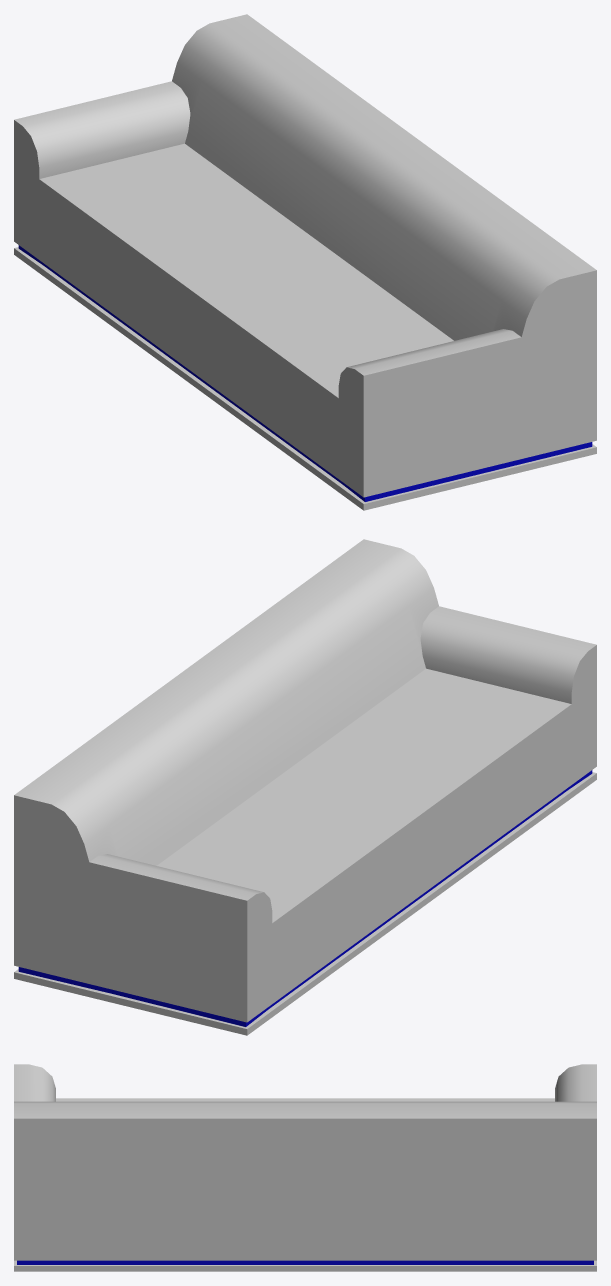
The model's file is Sofa.fbx.
The picture shows the model from 3 angles, top to bottom: view 1: azimuth 30°, elevation 25°; view 2: azimuth 150°, elevation 25°; view 3: azimuth 270°, elevation 25°; orthographic projection. The views are drawn at different scales.
Visible parts, largest first — view 1: Sofa; view 2: Sofa; view 3: Sofa.
Boxes of the visible parts, box(x1,y1,x2,y2) form: Sofa: box(14, 14, 596, 510); Sofa: box(14, 539, 596, 1035); Sofa: box(14, 1064, 596, 1271).
Bounding box in the file's own units: 0.9755 × 0.7339 × 2.53.
